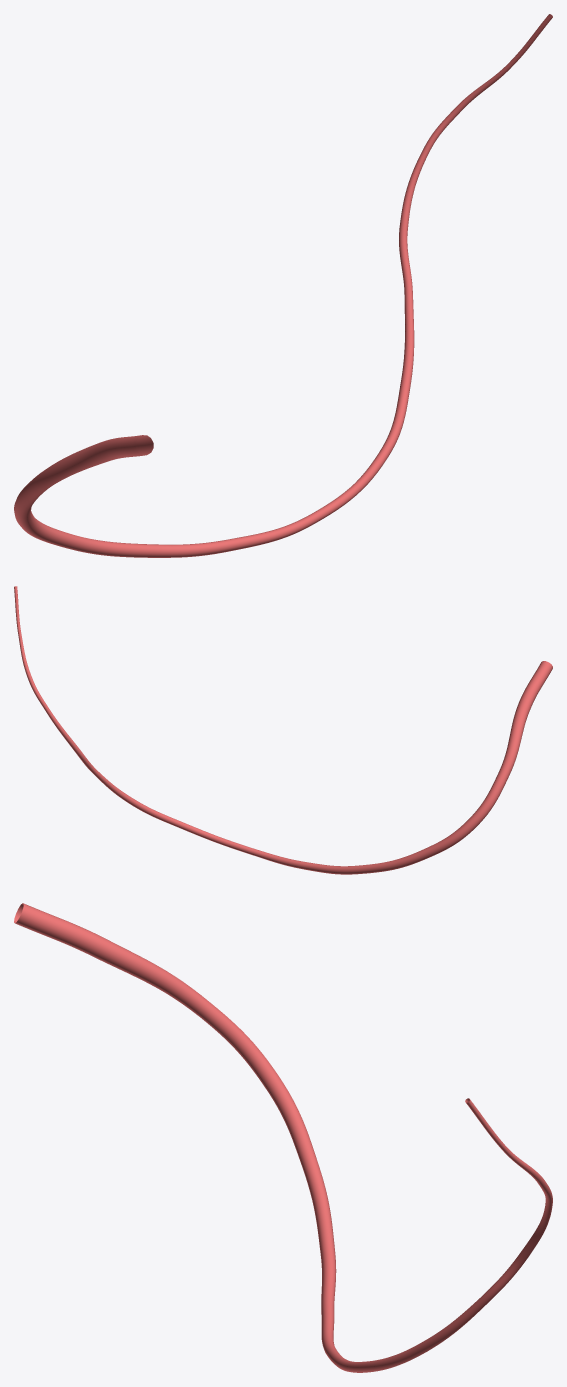
File: Lateral_occipital_artery.l_BezierCurve.228.glb
3 renders of one model, top to bottom at view 1: azimuth 30°, elevation 25°; view 2: azimuth 150°, elevation 25°; view 3: azimuth 270°, elevation 25°, orthographic. The views are drawn at different scales.
Parts seen in each view (by area): view 1: Lateral_occipital_artery.l_BezierCurve.228; view 2: Lateral_occipital_artery.l_BezierCurve.228; view 3: Lateral_occipital_artery.l_BezierCurve.228.
Boxes of the visible parts, x1=… form: Lateral_occipital_artery.l_BezierCurve.228: x1=14, y1=14, x2=552, y2=557; Lateral_occipital_artery.l_BezierCurve.228: x1=14, y1=586, x2=552, y2=874; Lateral_occipital_artery.l_BezierCurve.228: x1=14, y1=903, x2=552, y2=1372.
Size of the model in its own units: 0.0434 by 0.0254 by 0.0293.
